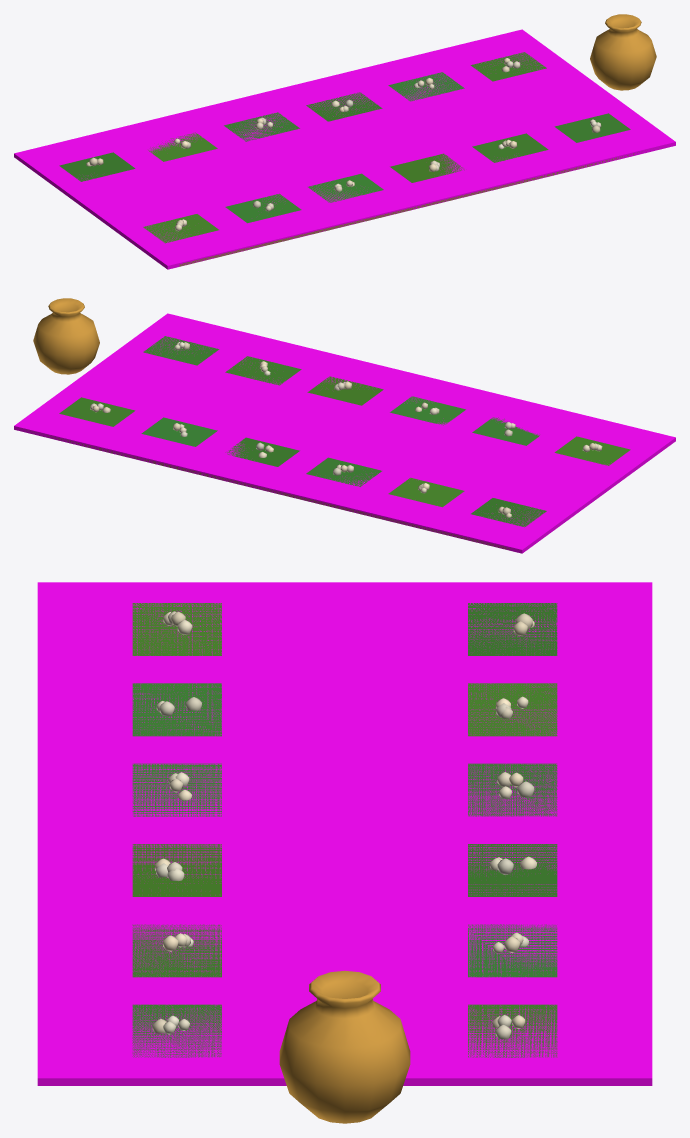
Rendered from PRP_Annadanam_Mats_A.glb.
3 renders of one model, top to bottom at view 1: azimuth 30°, elevation 25°; view 2: azimuth 150°, elevation 25°; view 3: azimuth 270°, elevation 25°, orthographic. The views are drawn at different scales.
Visible parts, largest first — view 1: WALK_Floor, PRP_Annadanam_Mats_A_Mesh; view 2: WALK_Floor, PRP_Annadanam_Mats_A_Mesh; view 3: WALK_Floor, PRP_Annadanam_Mats_A_Mesh.
Part boxes in pixels (x1,y1,x2,y2): WALK_Floor: (14,29,675,269); PRP_Annadanam_Mats_A_Mesh: (59,14,656,266); WALK_Floor: (14,313,675,553); PRP_Annadanam_Mats_A_Mesh: (26,298,630,549); WALK_Floor: (37,582,652,1085); PRP_Annadanam_Mats_A_Mesh: (132,603,557,1123).
Size of the model in its own units: 4.64 by 0.4965 by 2.2.
